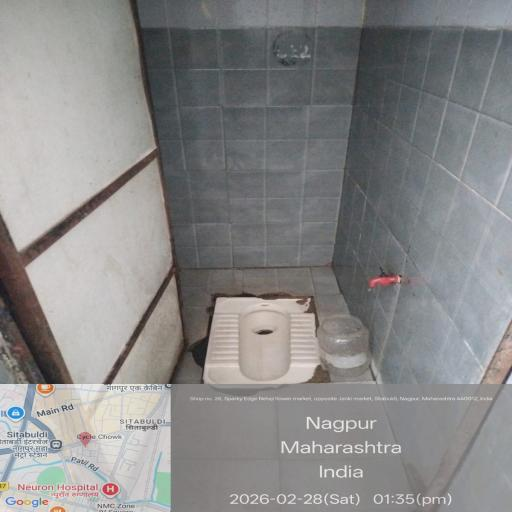clean_floor: (40, 262, 424, 498), (61, 46, 473, 243)
clean_indian: (214, 271, 342, 383)
